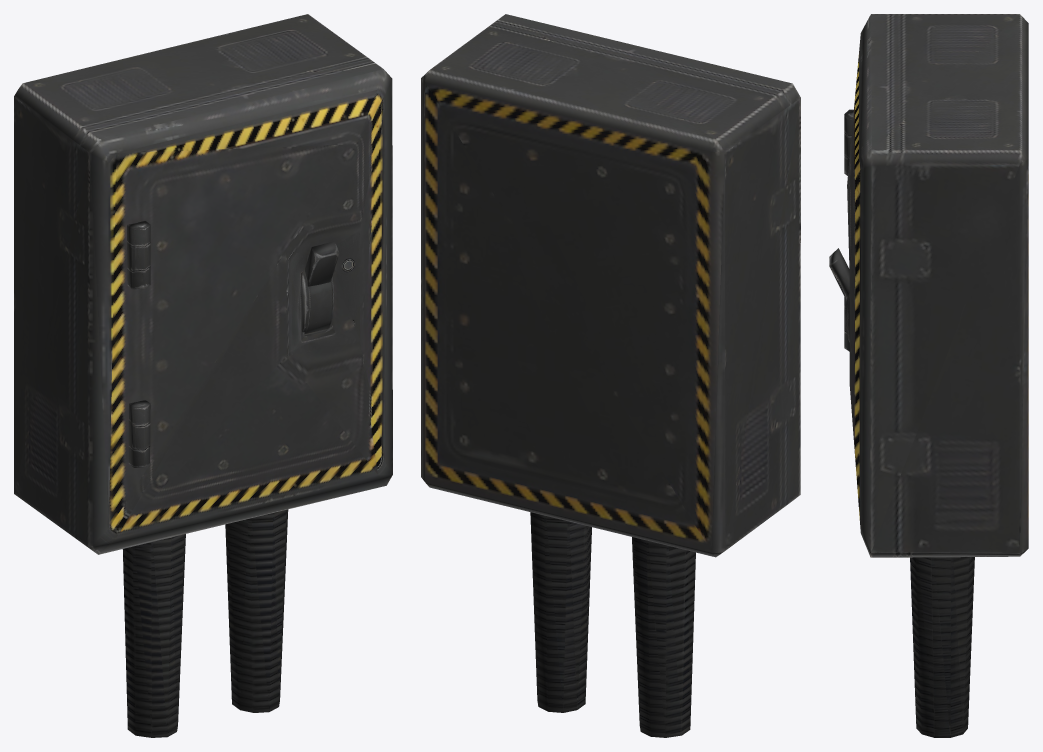
File: junction_box.glb
The picture shows the model from 3 angles, left to right: view 1: azimuth 30°, elevation 25°; view 2: azimuth 150°, elevation 25°; view 3: azimuth 270°, elevation 25°; orthographic projection. The views are drawn at different scales.
Parts seen in each view (by area): view 1: junction_box; view 2: junction_box; view 3: junction_box.
Boxes of the visible parts, x1,y1,x2,y2 form: junction_box: (14,14,392,737); junction_box: (421,14,800,737); junction_box: (829,14,1028,737).
Size of the model in its own units: 0.7462 by 1.5 by 0.4349.
1 material, 1 textured.
